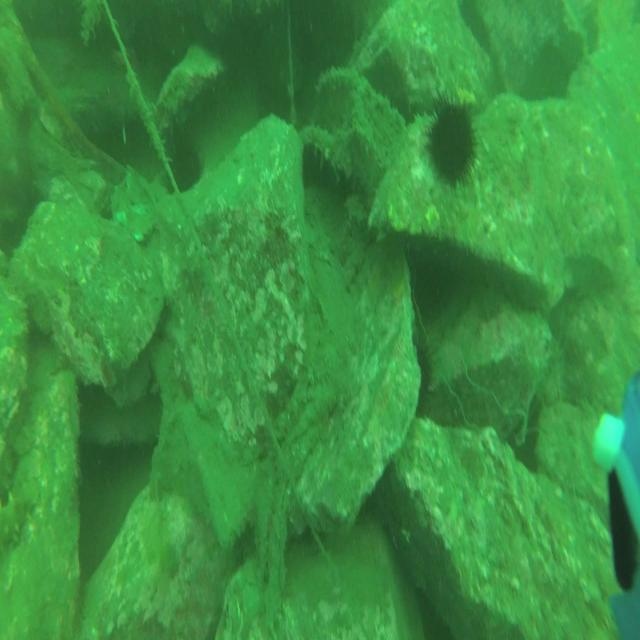echinus: (423, 92, 482, 193)
holothurian: (1, 482, 38, 550)
